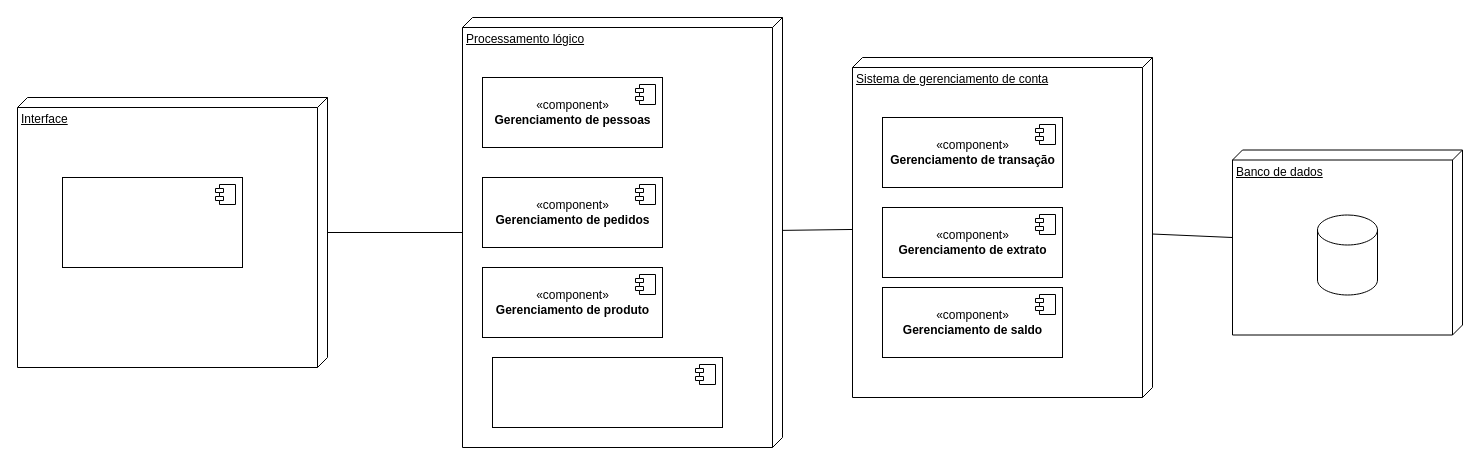
The diagram is 1480 pixels wide and 465 high, and some of its shapes have lost their labels. Here are the shapes that lost their labels. From the top down, the centre of each, then its label:
the point at 152,222: «component» Interface web
the point at 1347,254: banco
the point at 607,392: «component» Gerenciamento de notificação e email
